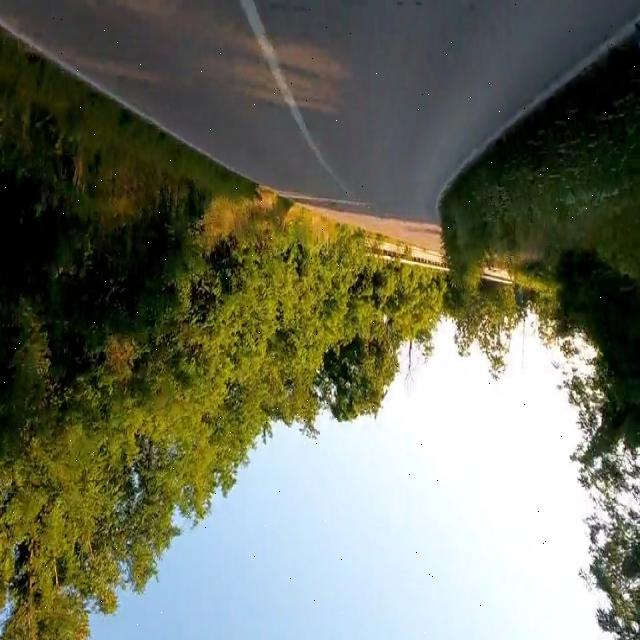lane: (241, 1, 350, 196)
road: (0, 2, 639, 226)
